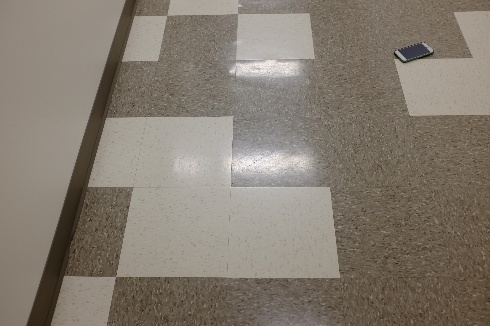phone: (390, 35, 439, 67)
